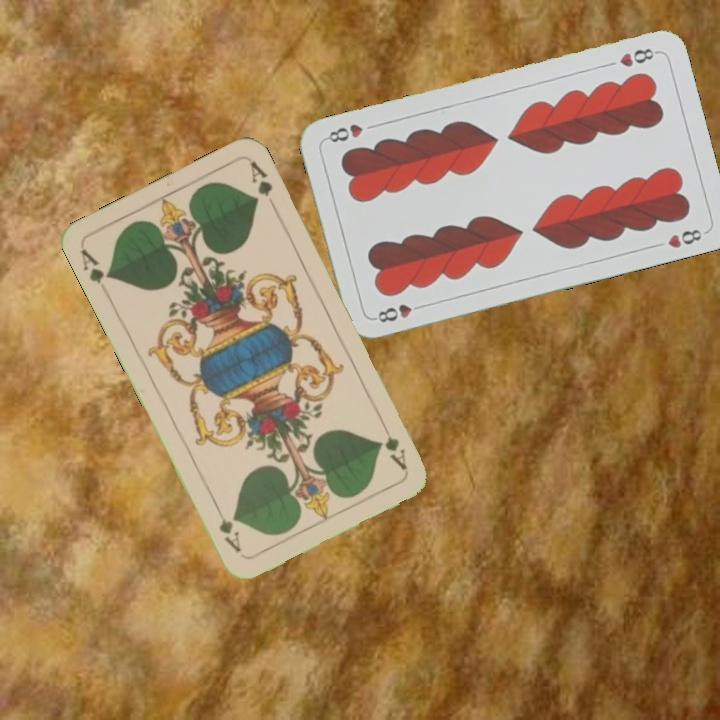GA: (76, 244, 115, 287), (376, 431, 410, 473)
H8: (369, 300, 428, 325), (615, 44, 661, 70)
